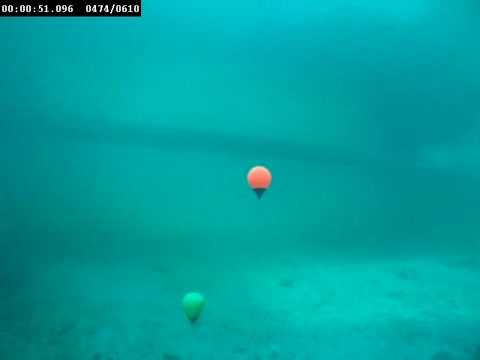buoy_green: (181, 291, 206, 325)
buoy_red: (247, 164, 272, 198)
